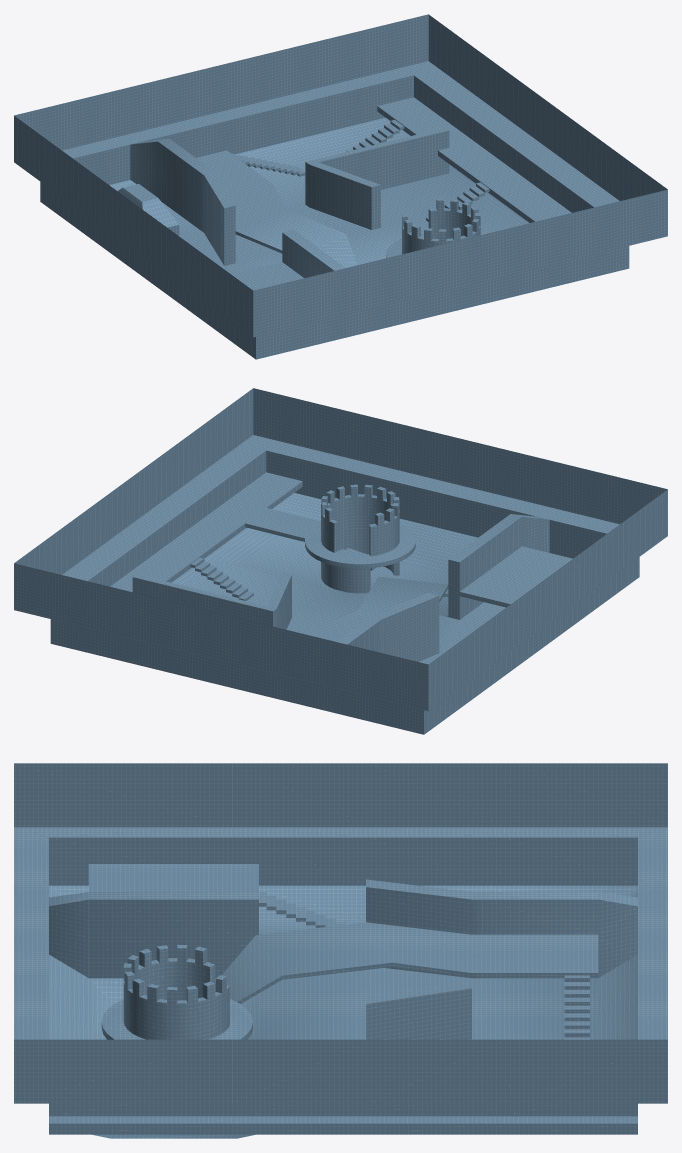
File: world-transformed.glb
The picture shows the model from 3 angles, top to bottom: view 1: azimuth 30°, elevation 25°; view 2: azimuth 150°, elevation 25°; view 3: azimuth 270°, elevation 25°; orthographic projection. The views are drawn at different scales.
Visible parts, largest first — view 1: Cube.004; view 2: Cube.004; view 3: Cube.004.
Boxes of the visible parts, left/top/right/bottom form: Cube.004: left=14, top=14, right=667, bottom=359; Cube.004: left=14, top=388, right=667, bottom=734; Cube.004: left=14, top=763, right=667, bottom=1138.
Bounding box in the file's own units: 34.36 × 8.6 × 34.36.
1 material, 1 textured.
